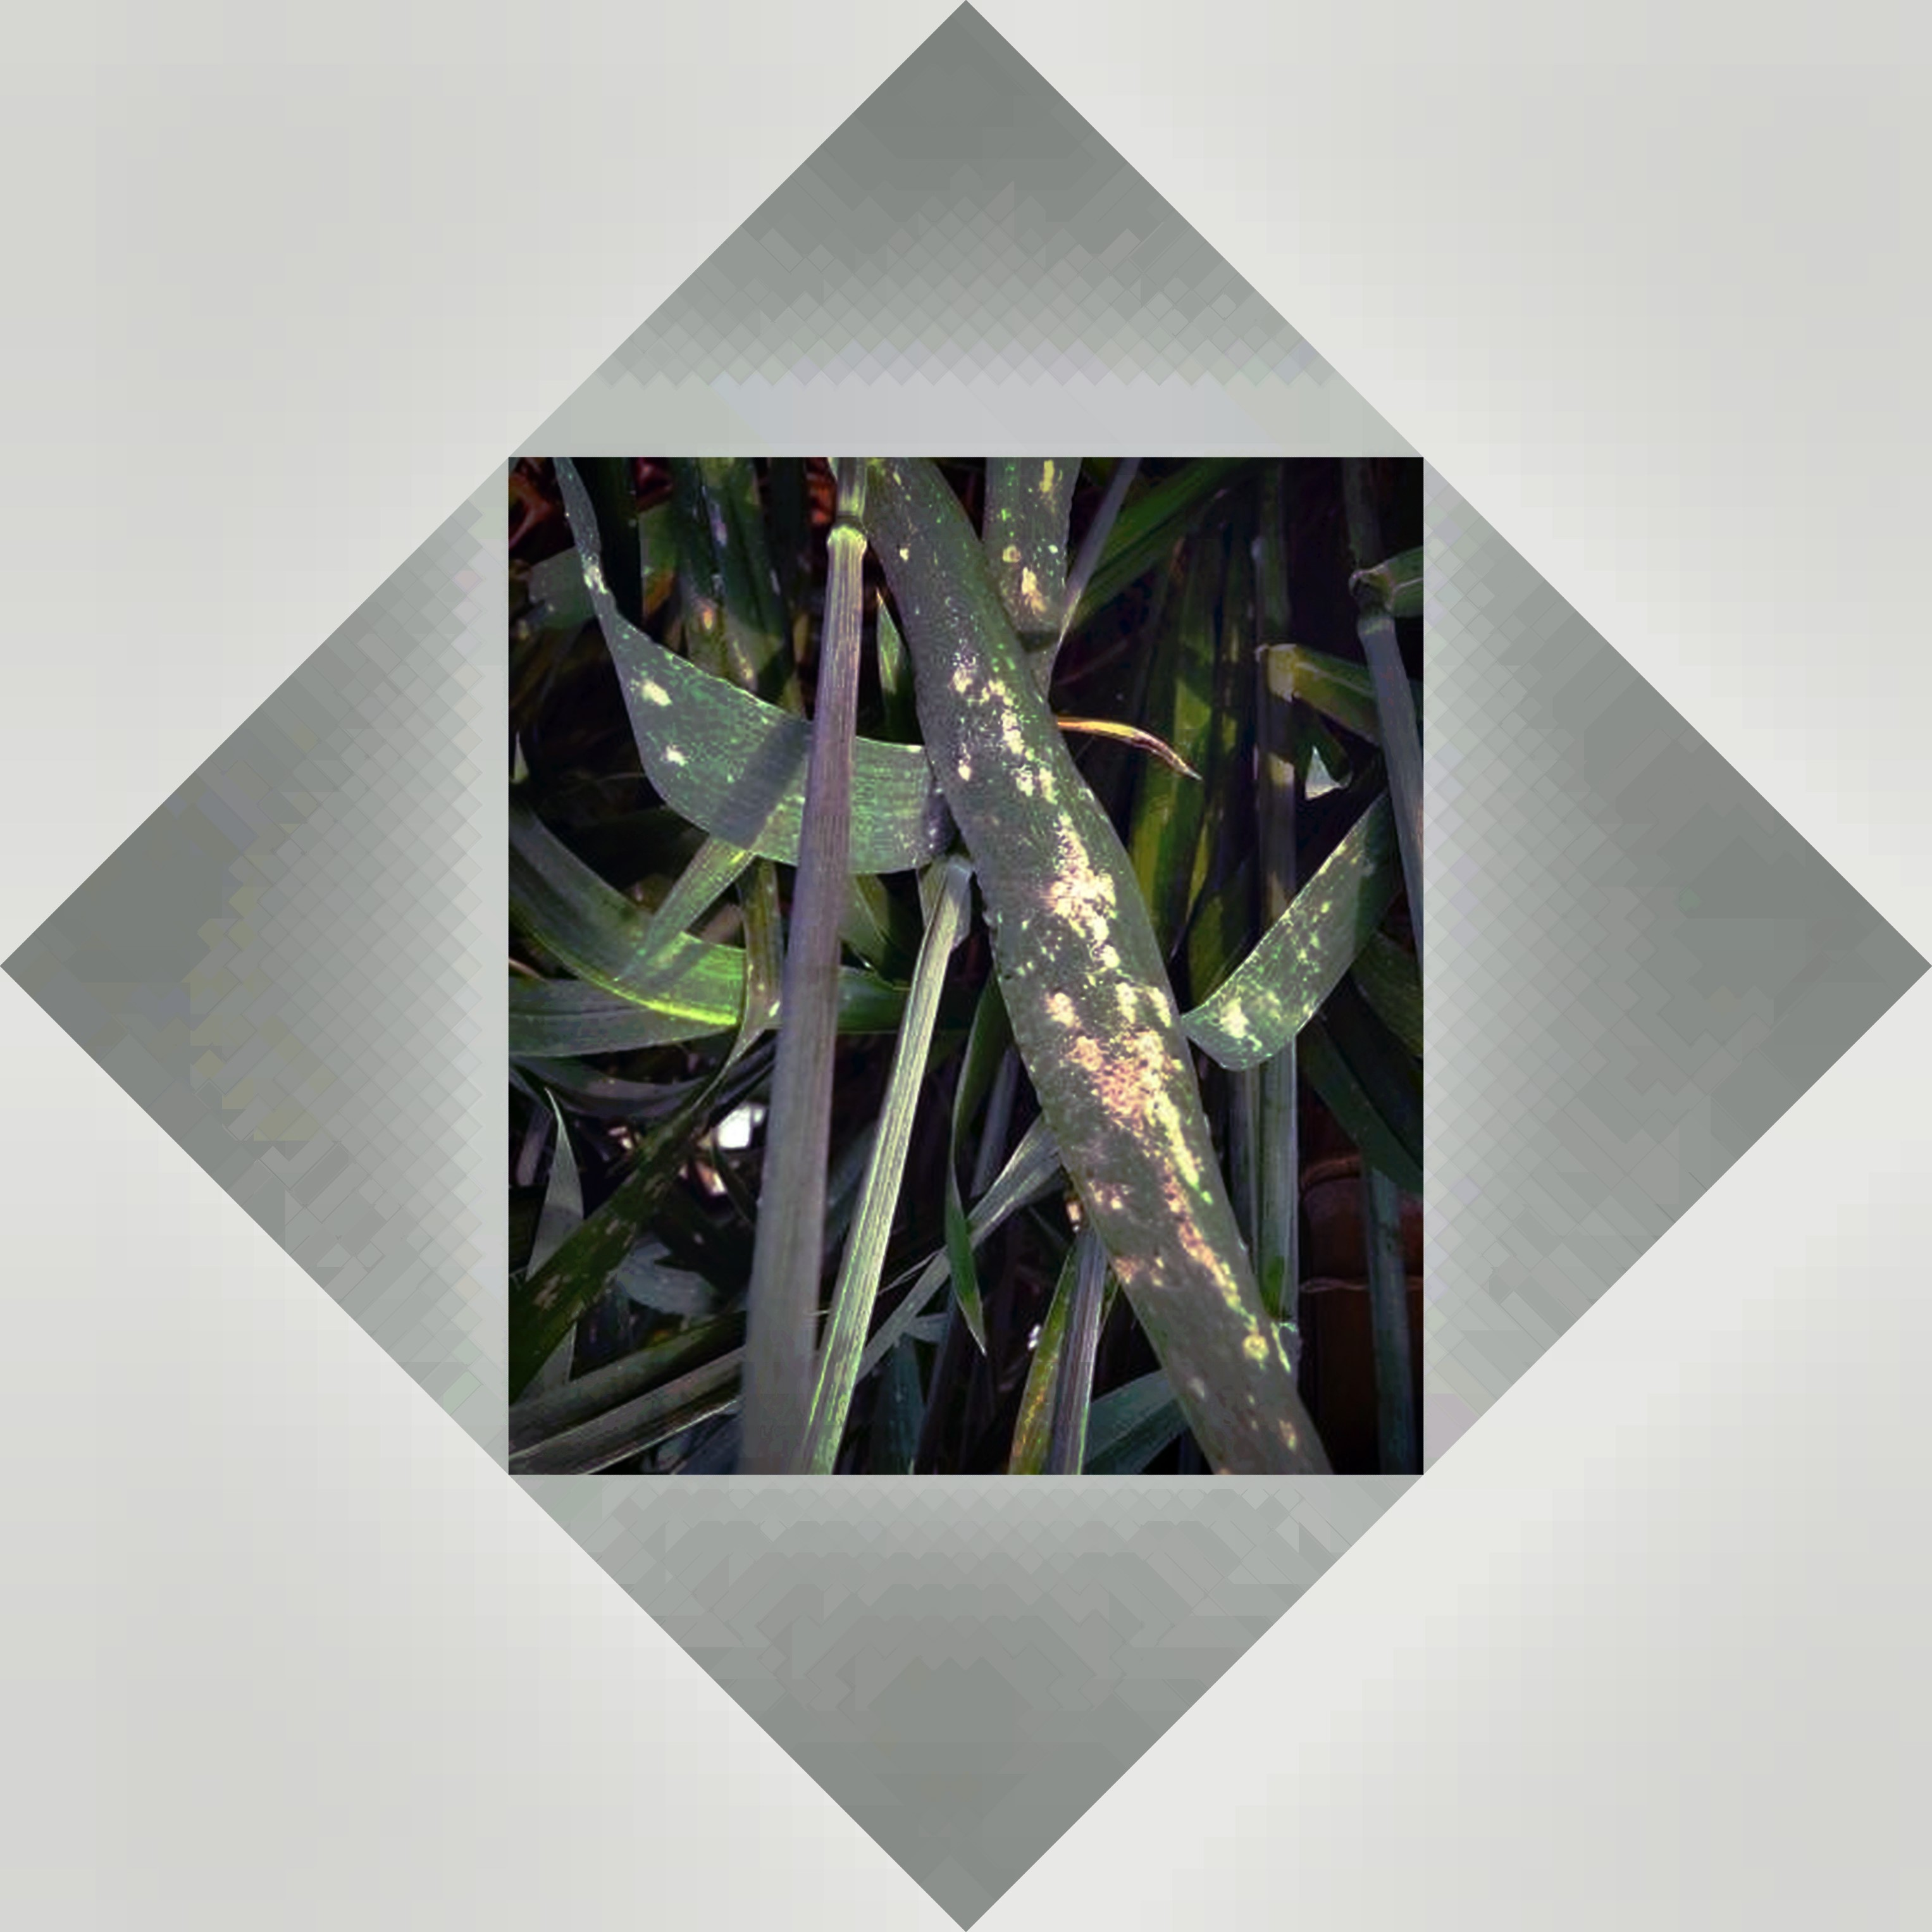Powdery Mildew: (931, 669, 1283, 1352)
